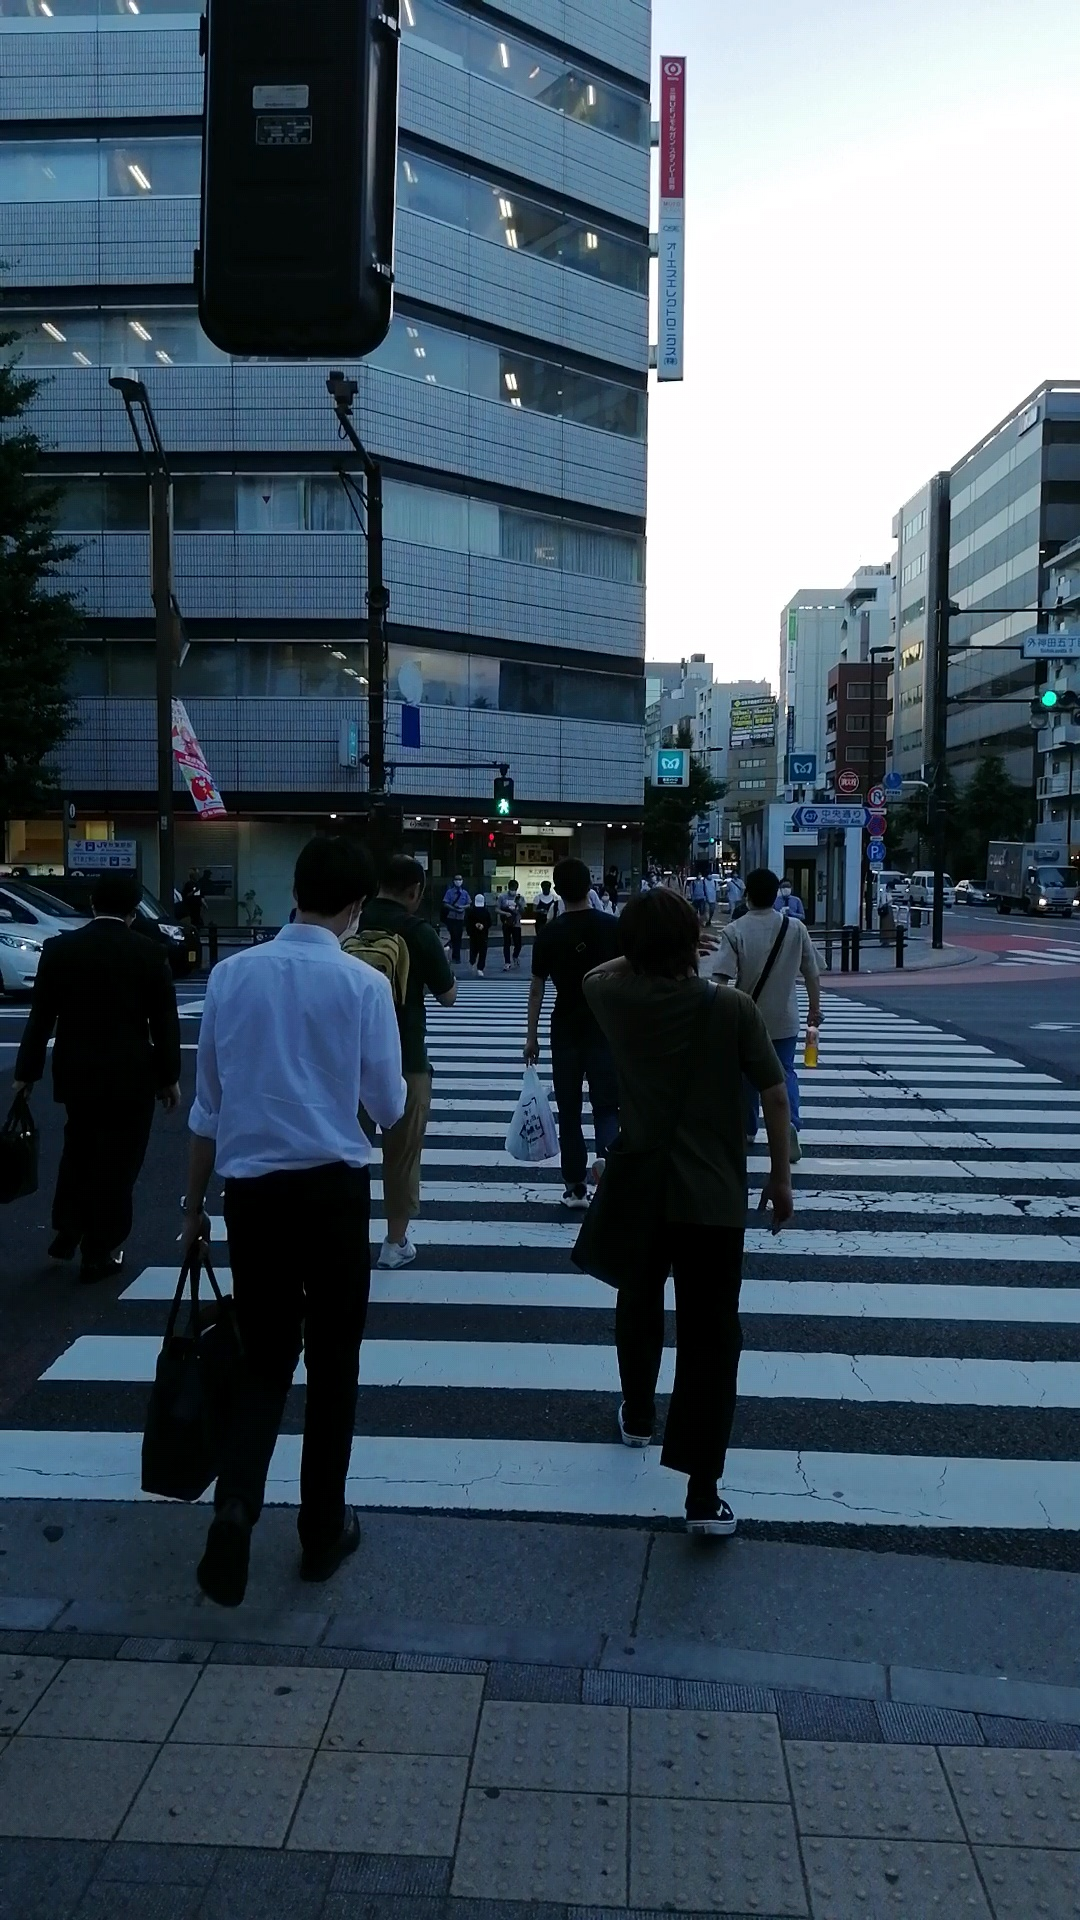green: (495, 777, 516, 819)
